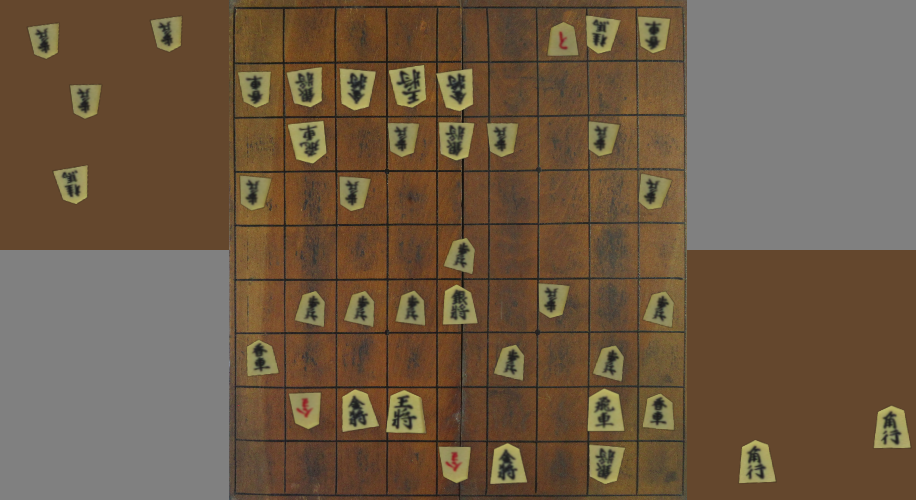A: (388, 391, 425, 433), (588, 390, 623, 431), (344, 391, 378, 431), (491, 445, 526, 483), (444, 286, 475, 324), (247, 341, 278, 376), (494, 345, 524, 380), (644, 395, 673, 430), (345, 292, 374, 326), (594, 347, 623, 381), (446, 239, 474, 273), (645, 292, 673, 326), (548, 23, 577, 55), (296, 292, 323, 326), (397, 292, 425, 324)
B: (289, 122, 326, 162), (340, 69, 375, 110), (390, 66, 425, 107), (438, 70, 472, 110), (439, 122, 473, 160), (288, 69, 321, 106), (591, 446, 624, 483), (587, 16, 619, 53), (289, 393, 321, 429), (640, 174, 671, 209), (639, 17, 669, 53), (239, 73, 270, 107), (440, 447, 470, 482), (241, 176, 271, 210), (341, 177, 370, 211), (590, 122, 619, 156), (389, 124, 418, 156), (488, 124, 517, 156), (540, 285, 569, 317)
C: (874, 407, 909, 448), (740, 442, 775, 482)
D: (54, 166, 86, 204), (151, 17, 181, 51), (29, 24, 58, 58), (71, 86, 100, 118)
